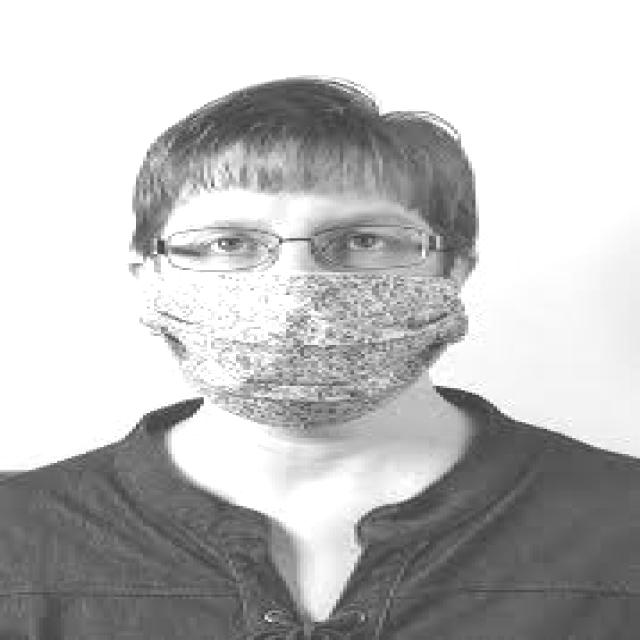fake: (112, 260, 481, 438)
real: (149, 192, 451, 441)
